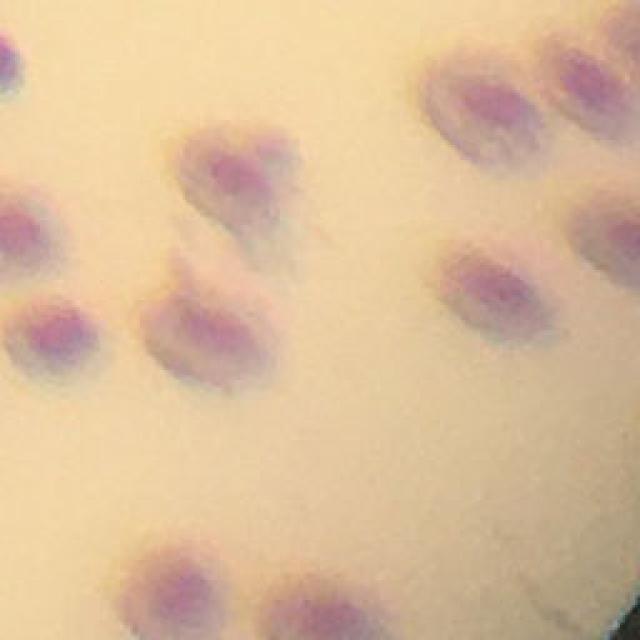RBC: (418, 42, 559, 184), (416, 233, 554, 348), (139, 292, 281, 394), (536, 24, 640, 157), (172, 126, 284, 241), (122, 541, 246, 640), (4, 289, 113, 386), (259, 578, 408, 640), (557, 185, 640, 293)
